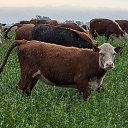vaca: (8, 36, 121, 101), (87, 14, 126, 40)
